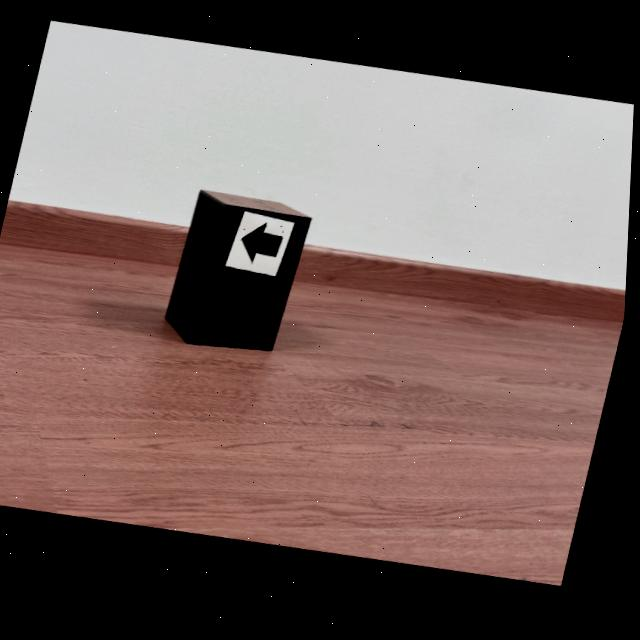LEFT: (244, 226, 285, 266)
